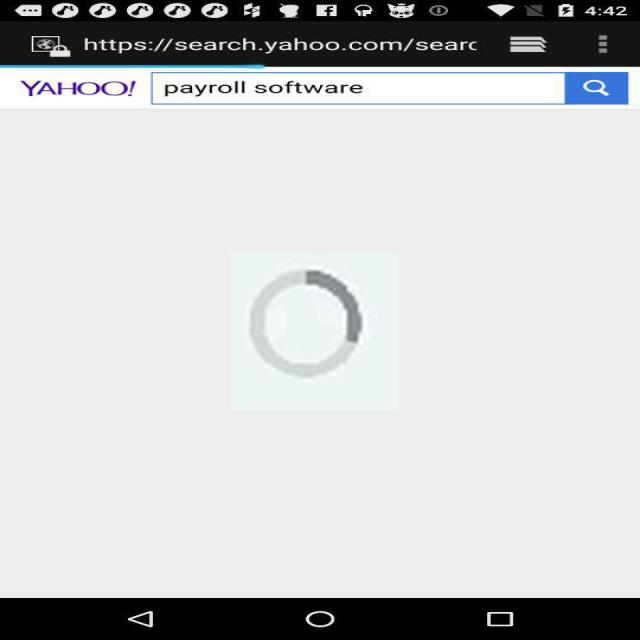misdirection: (231, 253, 400, 410)
